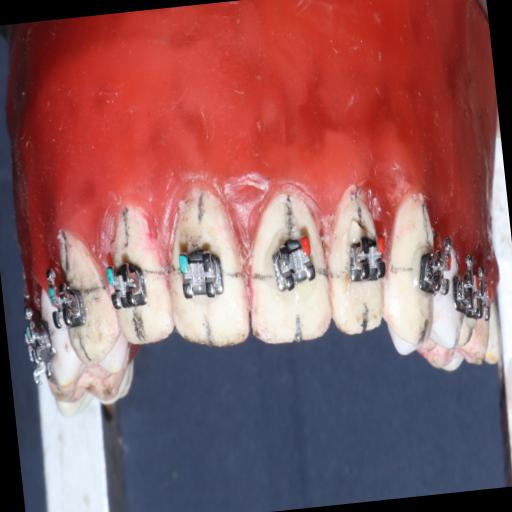correct_brace: (174, 239, 230, 305)
incorrect_brace: (264, 223, 318, 298)
